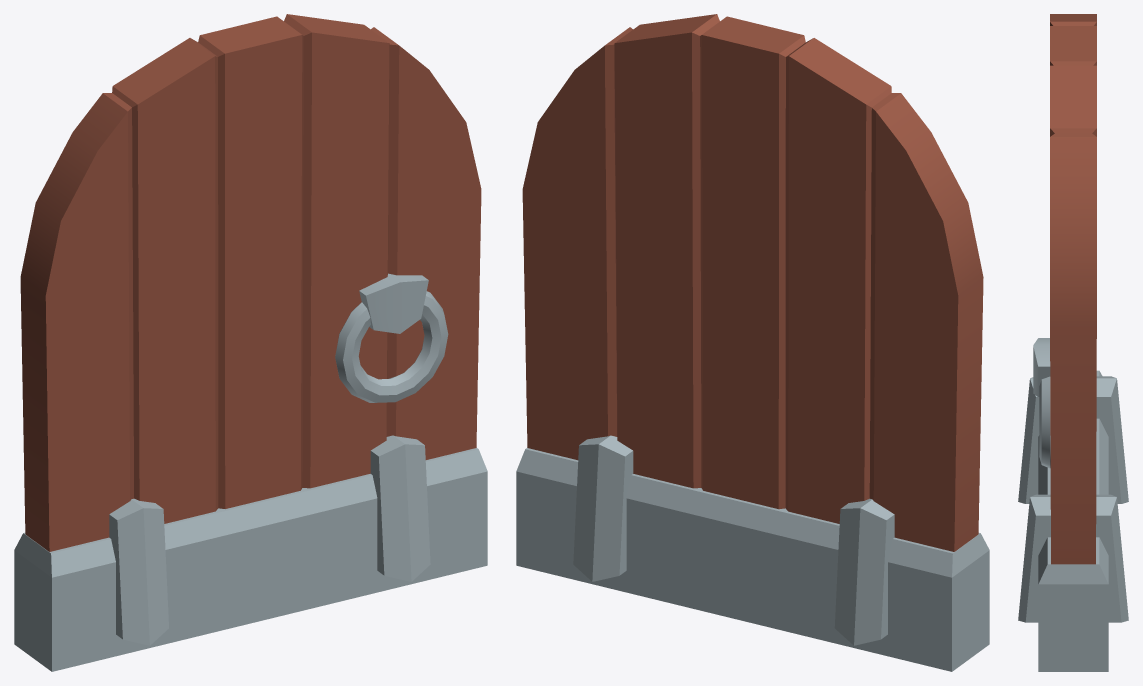
The model's file is door.gltf.
3 renders of one model, left to right at view 1: azimuth 30°, elevation 25°; view 2: azimuth 150°, elevation 25°; view 3: azimuth 270°, elevation 25°, orthographic. The views are drawn at different scales.
Visible parts, largest first — view 1: Cube4153, Cube4153_1; view 2: Cube4153, Cube4153_1; view 3: Cube4153, Cube4153_1.
Part boxes in pixels (<box>): Cube4153: <box>20,14,481,551</box>; Cube4153_1: <box>14,273,487,671</box>; Cube4153: <box>522,14,983,551</box>; Cube4153_1: <box>516,435,989,671</box>; Cube4153: <box>1050,14,1096,564</box>; Cube4153_1: <box>1018,338,1128,671</box>.
Size of the model in its own units: 2 by 2.5 by 0.4739.
